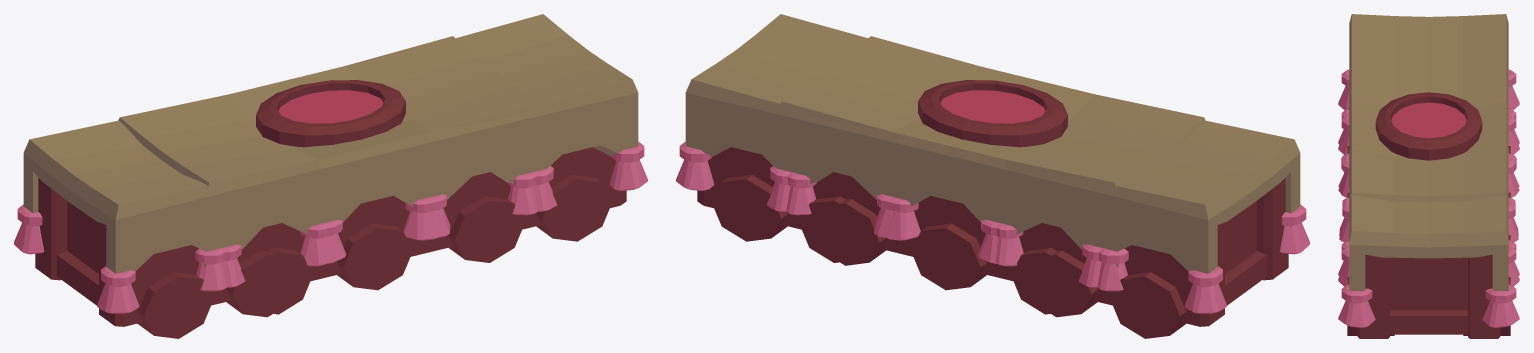
File: NoteBlocks.fbx
3 renders of one model, left to right at view 1: azimuth 30°, elevation 25°; view 2: azimuth 150°, elevation 25°; view 3: azimuth 270°, elevation 25°, orthographic. The views are drawn at different scales.
Visible parts, largest first — view 1: NoteCube3x1, NoteCube2x1; view 2: NoteCube3x1, NoteCube2x1; view 3: NoteCube3x1, NoteCube2x1.
Boxes of the visible parts, x1,y1,x2,y2 form: NoteCube3x1: (14, 14, 647, 338); NoteCube2x1: (118, 36, 557, 317); NoteCube3x1: (676, 14, 1309, 338); NoteCube2x1: (766, 36, 1205, 317); NoteCube3x1: (1338, 14, 1519, 338); NoteCube2x1: (1338, 52, 1519, 286).
Size of the model in its own units: 612 by 164 by 205.
